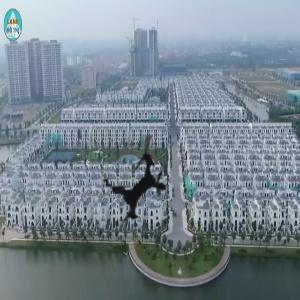drone: (67, 113, 211, 257)
